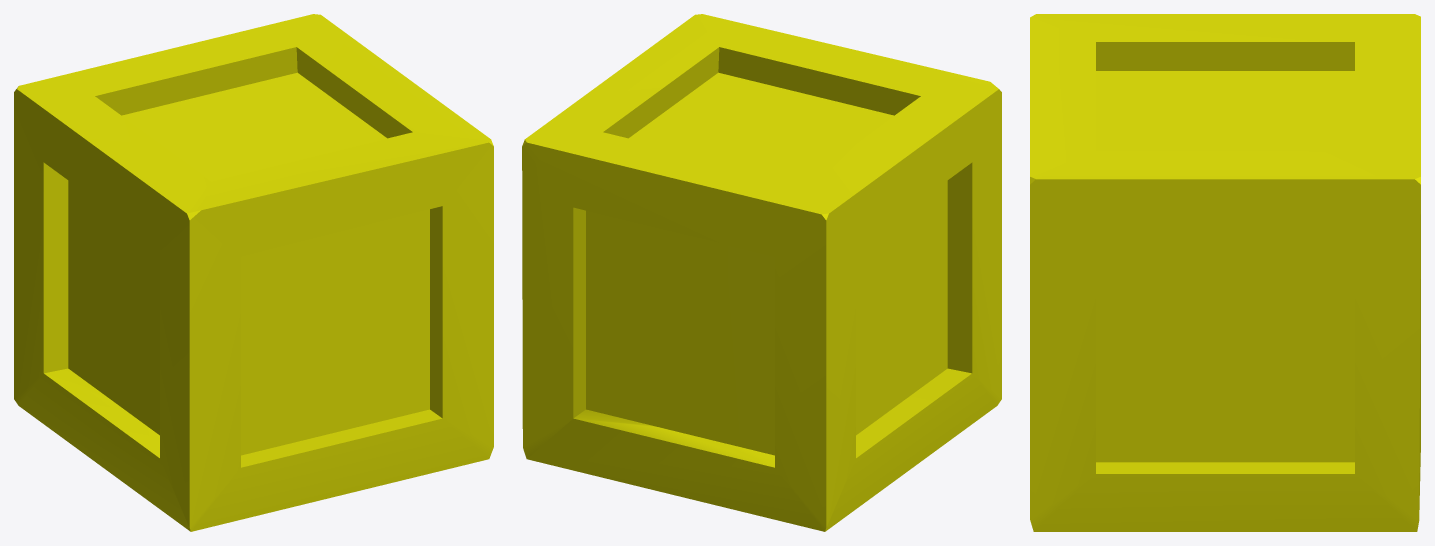
3 renders of one model, left to right at view 1: azimuth 30°, elevation 25°; view 2: azimuth 150°, elevation 25°; view 3: azimuth 270°, elevation 25°, orthographic. The views are drawn at different scales.
Parts seen in each view (by area): view 1: thunggo02; view 2: thunggo02; view 3: thunggo02.
Part boxes in pixels (<box>): thunggo02: <box>14,14,493,531</box>; thunggo02: <box>522,14,1001,531</box>; thunggo02: <box>1030,14,1420,531</box>.
Size of the model in its own units: 1.69 by 1.71 by 1.69.
Materials: 1 (1 with a texture image).
